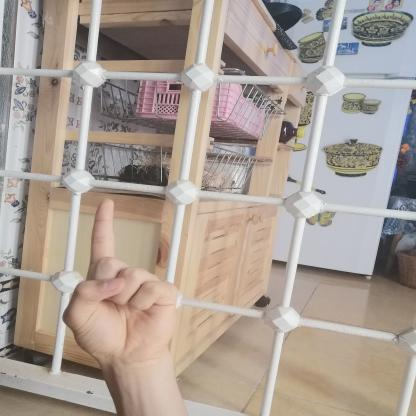BAA: (53, 187, 190, 371)
